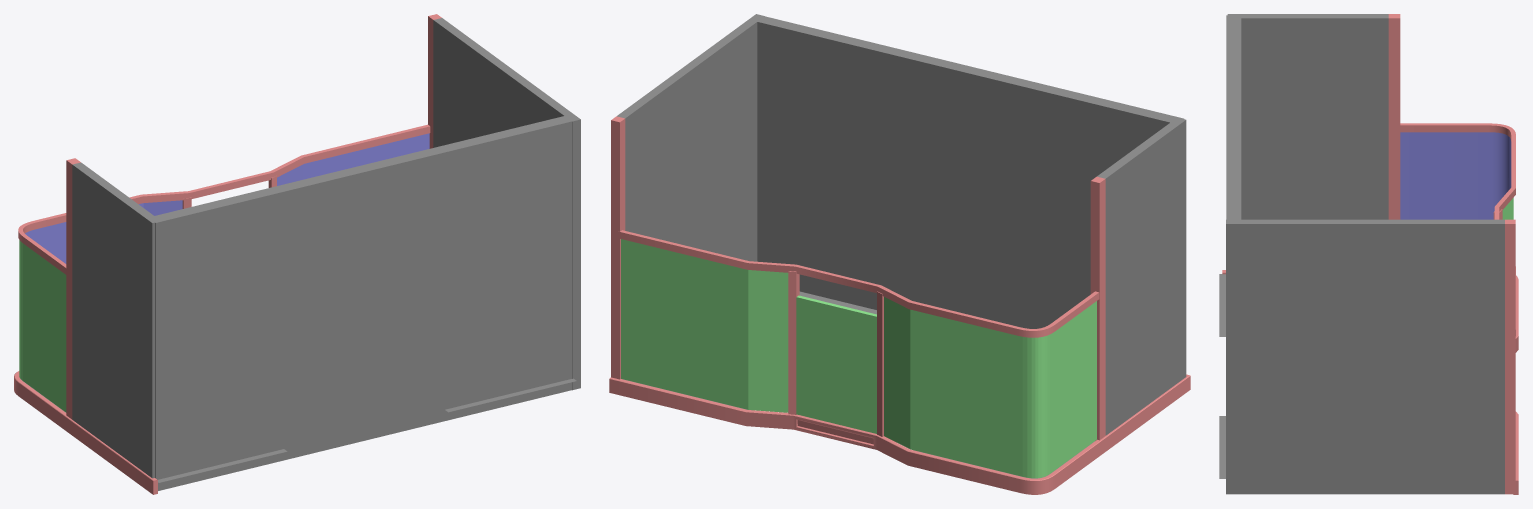
The model's file is S_Envi_Umeda_IndoorA1_a.gltf.
3 views of the same model, side by side, from view 1: azimuth 30°, elevation 25°; view 2: azimuth 150°, elevation 25°; view 3: azimuth 270°, elevation 25° (orthographic).
Parts seen in each view (by area): view 1: S_Envi_Umeda_IndoorA1_a; view 2: S_Envi_Umeda_IndoorA1_a; view 3: S_Envi_Umeda_IndoorA1_a.
Boxes of the visible parts, x1,y1,x2,y2 form: S_Envi_Umeda_IndoorA1_a: (14, 14, 580, 494); S_Envi_Umeda_IndoorA1_a: (609, 14, 1190, 494); S_Envi_Umeda_IndoorA1_a: (1219, 14, 1518, 494).
Size of the model in its own units: 10.46 by 6.27 by 6.28.
